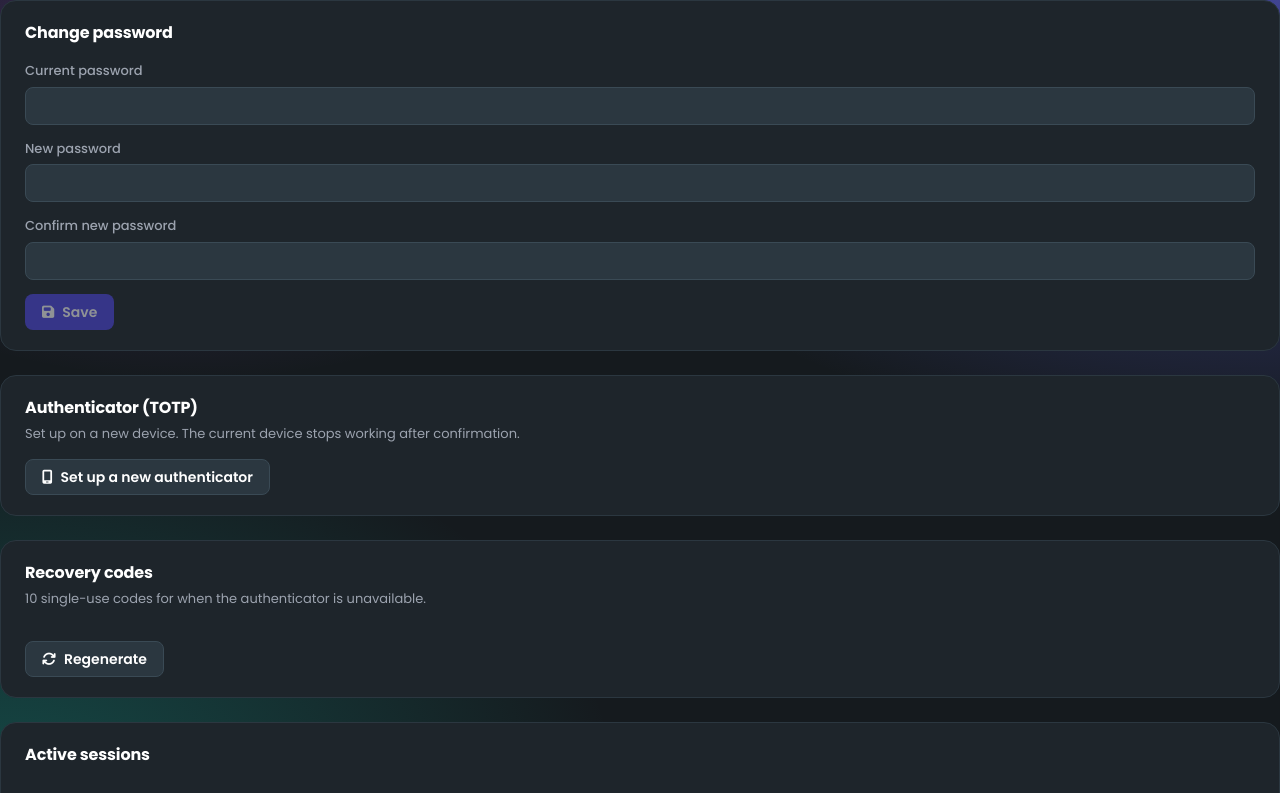
Settings > Security › copies all codes to the clipboard when the API is available
The image size is (1280, 793).
Click the button "Regenerate": (94, 658) [25, 640, 164, 676]
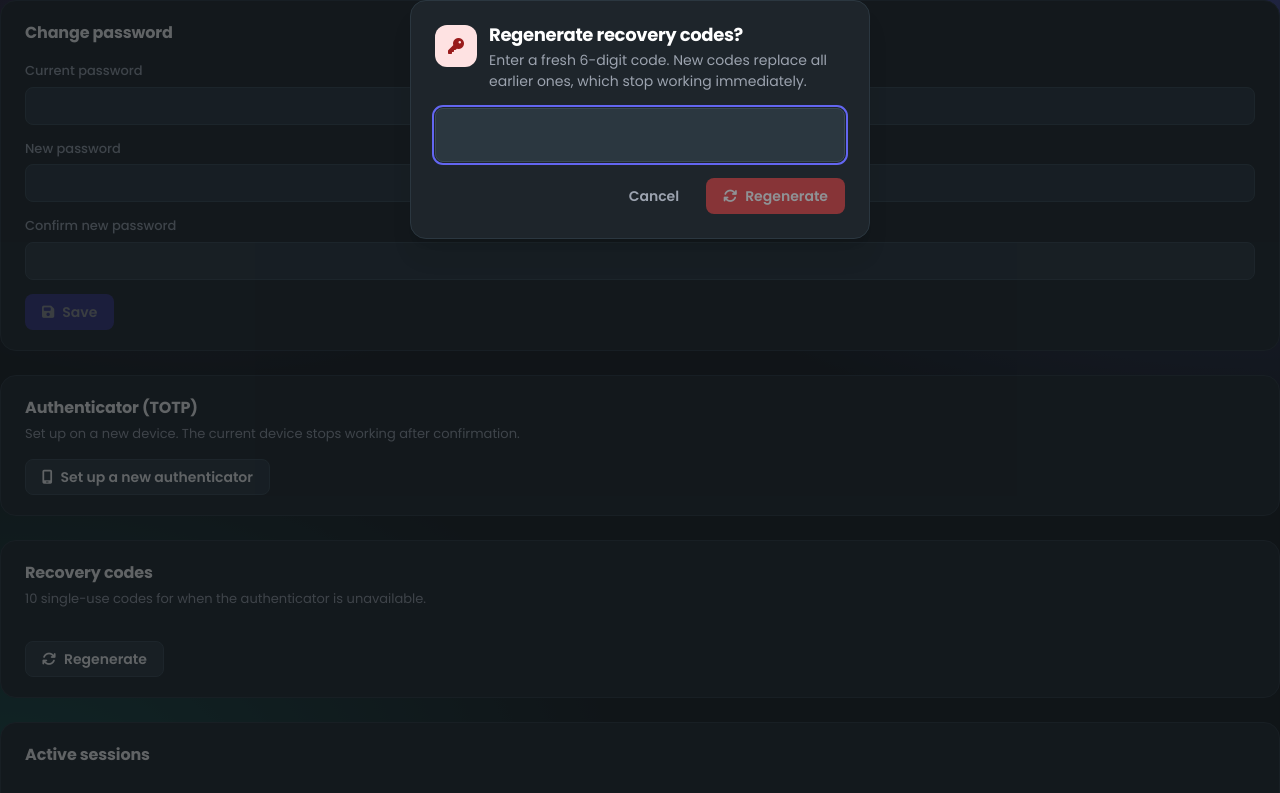
In the field named "Two-factor code": (640, 135) [435, 108, 845, 162], type "111111"
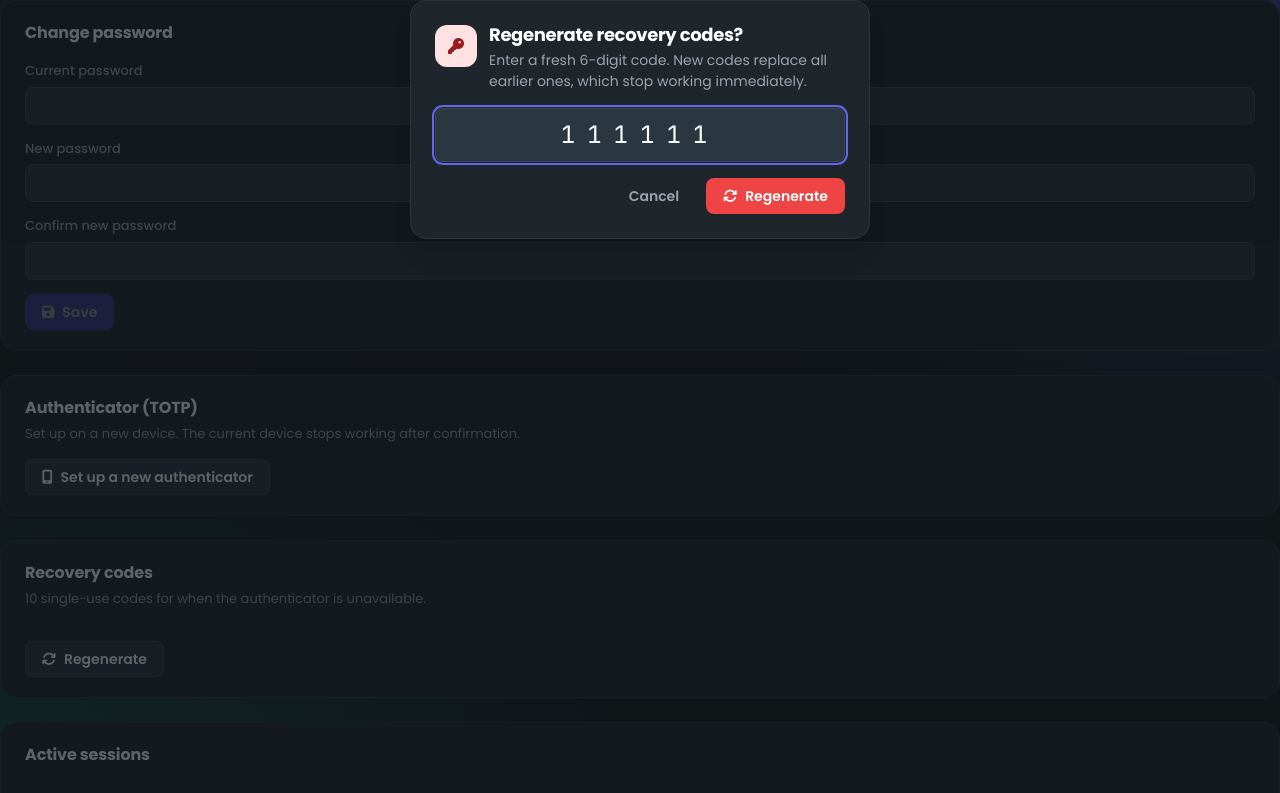
Click the button "Regenerate": (776, 196) [706, 178, 845, 214]
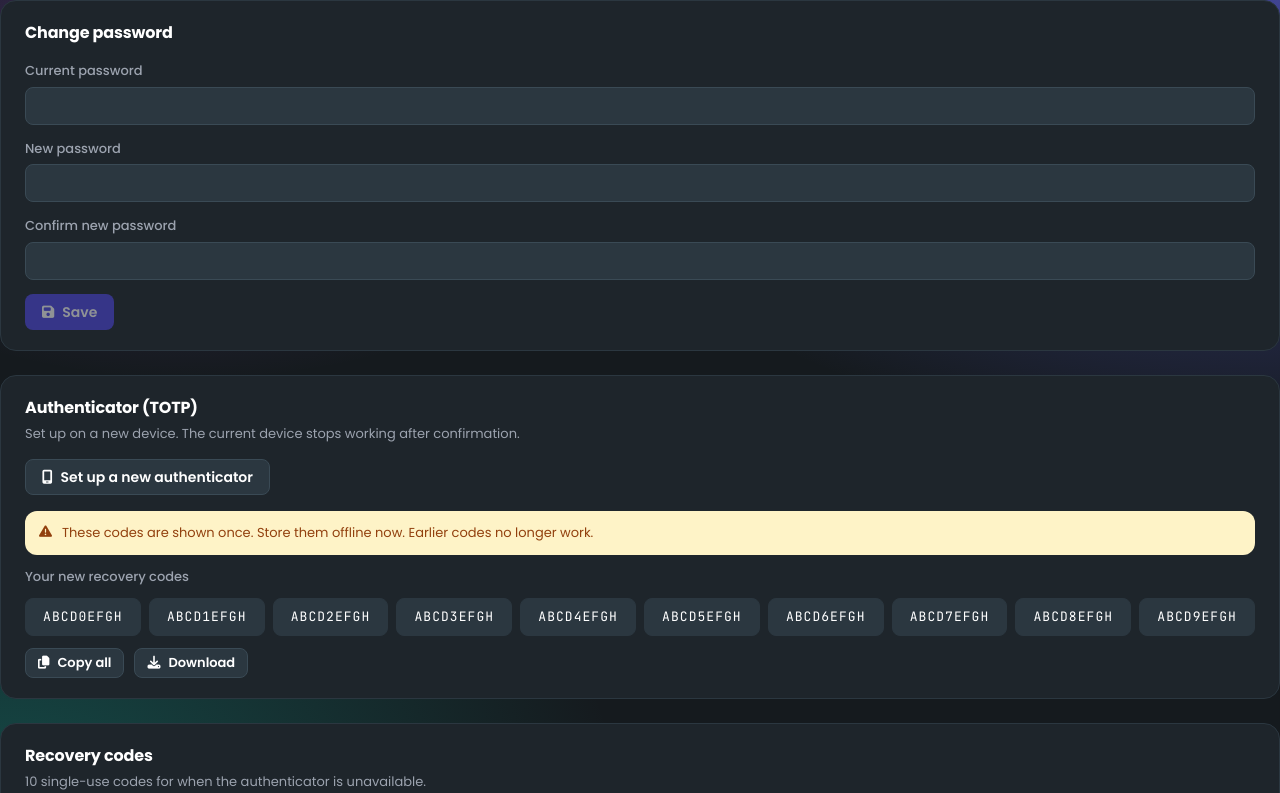
Click the button "Copy all": (75, 662) [25, 648, 124, 678]
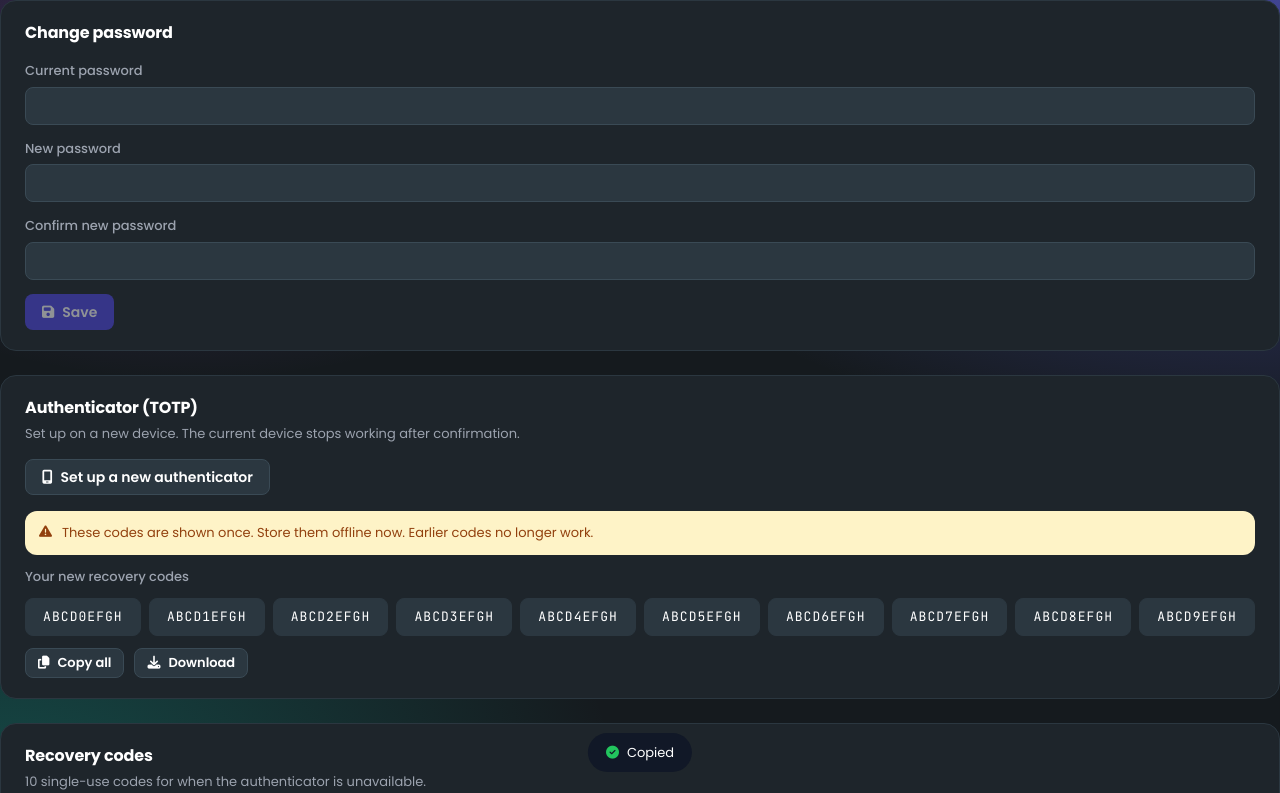
Result: the text "Copied" is shown at [588, 732, 692, 772]
